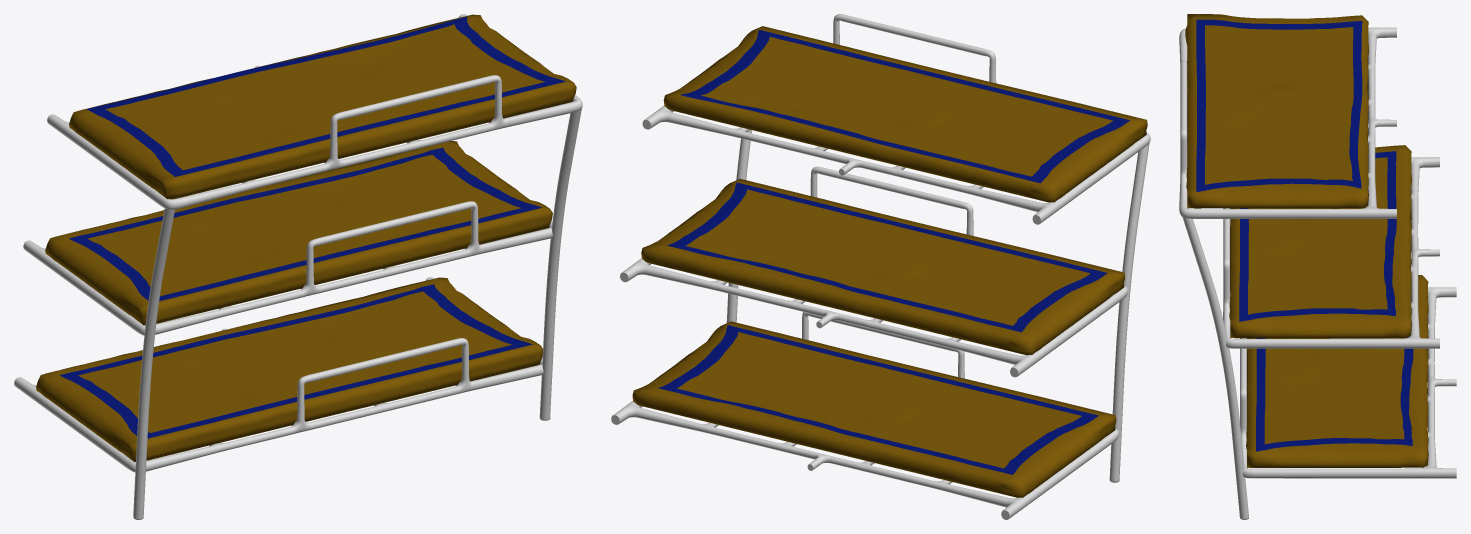
File: Bunk_beds.fbx
3 views of the same model, side by side, from view 1: azimuth 30°, elevation 25°; view 2: azimuth 150°, elevation 25°; view 3: azimuth 270°, elevation 25° (orthographic). The views are drawn at different scales.
Visible parts, largest first — view 1: Matress.001; view 2: Matress.001; view 3: Matress.001.
Boxes of the visible parts, x1,y1,x2,y2 form: Matress.001: [14, 14, 582, 519]; Matress.001: [611, 14, 1150, 519]; Matress.001: [1179, 14, 1456, 519].
Size of the model in its own units: 184 by 162 by 116.
